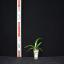leaf: (35, 38, 42, 47), (24, 45, 35, 50), (36, 42, 42, 49), (36, 47, 43, 52), (27, 48, 35, 52)
